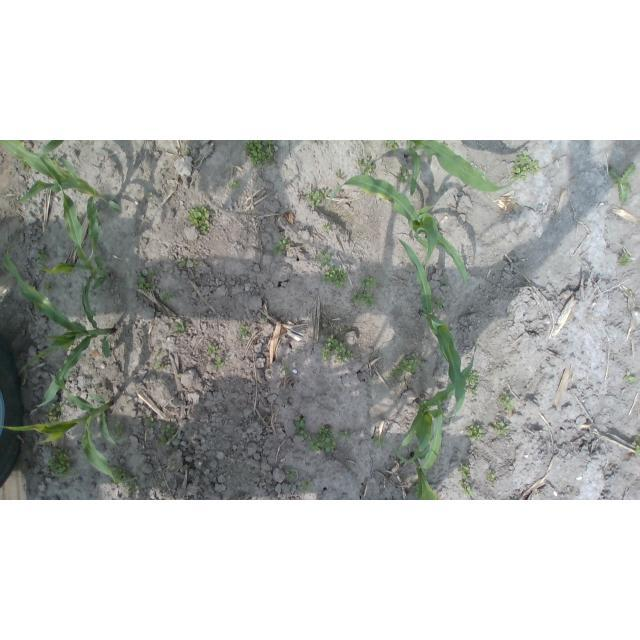Maize: (1, 239, 117, 410), (325, 175, 468, 285), (1, 374, 140, 485), (39, 154, 114, 318), (398, 239, 466, 418), (402, 332, 479, 468), (1, 140, 124, 217), (407, 141, 527, 196), (391, 447, 441, 500)
Weeds: (317, 253, 347, 289), (609, 163, 635, 203), (511, 149, 541, 180), (322, 334, 355, 362), (243, 140, 277, 165), (306, 426, 336, 454), (352, 277, 376, 307), (114, 467, 139, 493), (187, 205, 210, 233), (393, 354, 422, 375), (50, 449, 71, 477), (458, 466, 475, 498), (306, 189, 329, 207), (45, 402, 65, 422), (466, 370, 480, 394), (498, 391, 514, 410), (137, 276, 156, 292), (358, 159, 376, 175), (493, 420, 511, 436), (176, 255, 198, 268), (162, 424, 175, 446), (295, 417, 308, 438), (466, 424, 483, 440), (622, 370, 638, 384), (373, 435, 387, 451), (619, 252, 632, 267), (632, 433, 640, 456), (213, 357, 226, 371), (275, 238, 290, 250), (384, 141, 400, 152), (399, 168, 409, 185), (174, 322, 186, 334), (298, 478, 311, 489), (285, 469, 296, 482), (144, 417, 156, 428), (411, 484, 421, 497), (37, 252, 48, 263), (207, 345, 219, 355), (486, 470, 495, 483), (156, 361, 169, 370), (115, 419, 123, 433), (340, 430, 350, 441), (239, 326, 250, 336), (436, 299, 445, 310), (162, 293, 174, 301), (148, 271, 157, 280), (336, 170, 344, 180), (322, 223, 330, 232), (43, 283, 52, 290), (230, 181, 239, 187), (263, 317, 270, 324), (147, 192, 155, 198)
